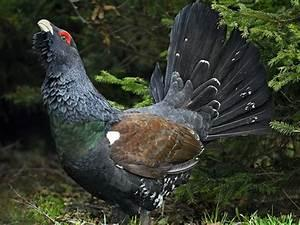hen: (30, 0, 276, 224)
